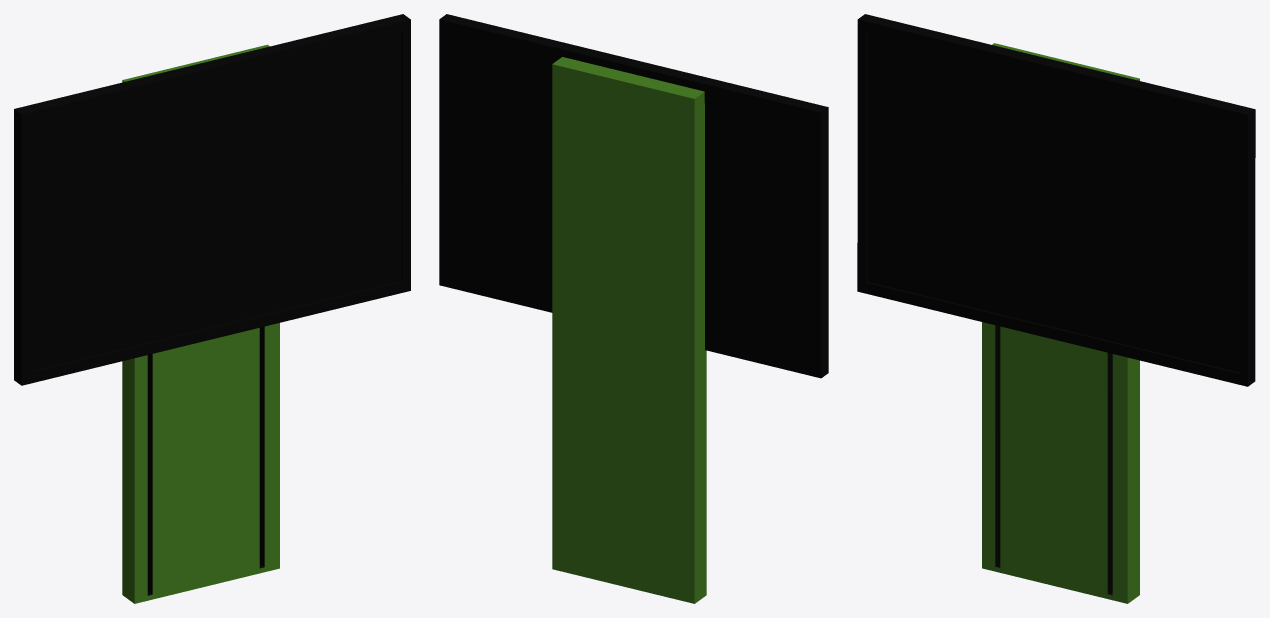
File: TV_side.fbx
3 renders of one model, left to right at view 1: azimuth 30°, elevation 25°; view 2: azimuth 150°, elevation 25°; view 3: azimuth 330°, elevation 25°, orthographic. The views are drawn at different scales.
Visible parts, largest first — view 1: TV side; view 2: TV side; view 3: TV side.
Part boxes in pixels (box(x1,y1,x2,y2)): TV side: box(14, 14, 410, 603); TV side: box(439, 14, 828, 603); TV side: box(857, 14, 1255, 603).
Bounding box in the file's own units: 212 × 271 × 16.87.
